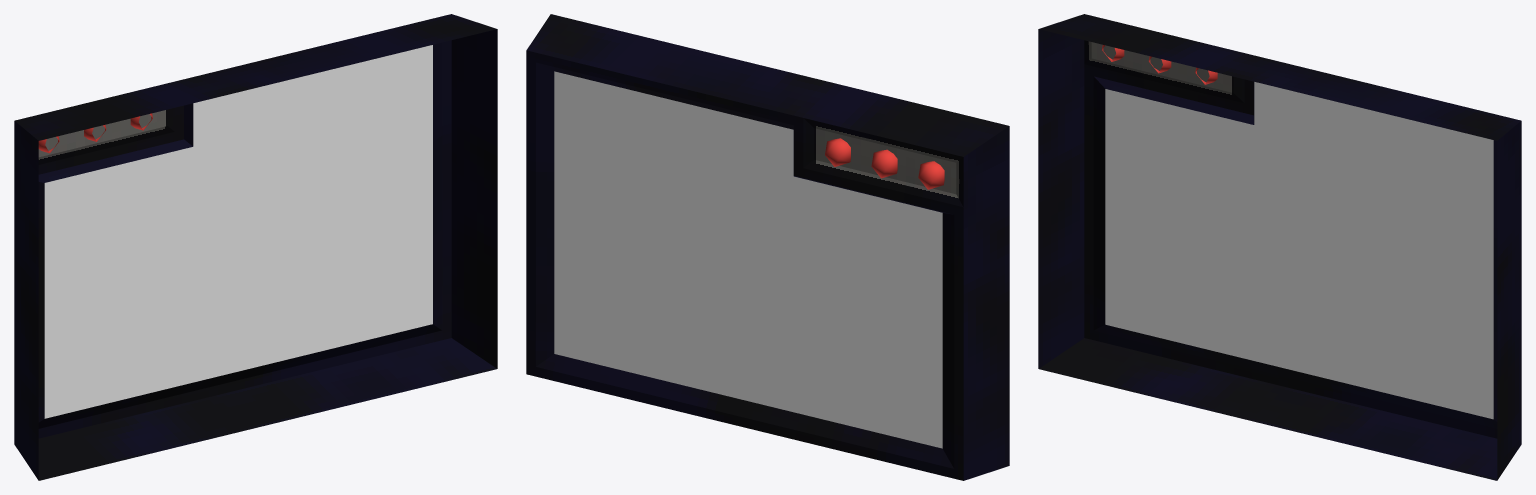
Rendered from fingerprint_scanner.glb.
3 renders of one model, left to right at view 1: azimuth 30°, elevation 25°; view 2: azimuth 150°, elevation 25°; view 3: azimuth 330°, elevation 25°, orthographic.
Visible parts, largest first — view 1: FingerprintPanel; view 2: FingerprintPanel; view 3: FingerprintPanel.
Boxes of the visible parts, bbox=[...] form: FingerprintPanel: bbox=[14, 14, 497, 480]; FingerprintPanel: bbox=[526, 14, 1009, 480]; FingerprintPanel: bbox=[1038, 14, 1521, 480].
Bounding box in the file's own units: 0.167 × 0.1183 × 0.0265.
3 materials, 1 textured.
